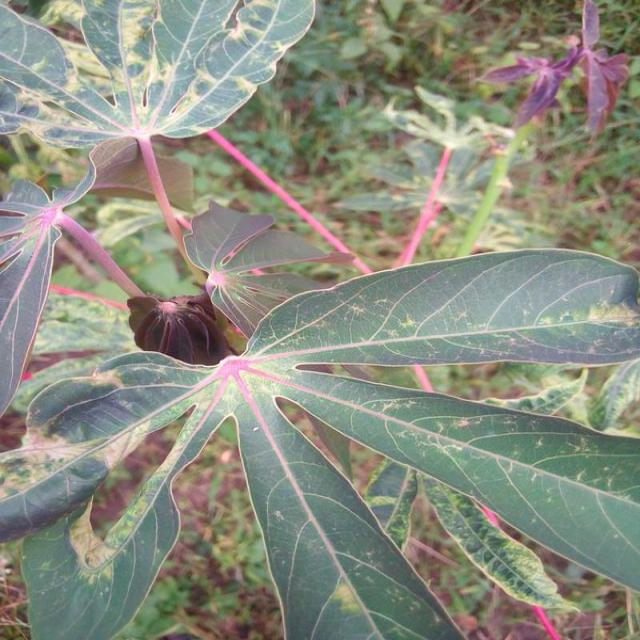cassava leaf: (3, 229, 640, 638)
